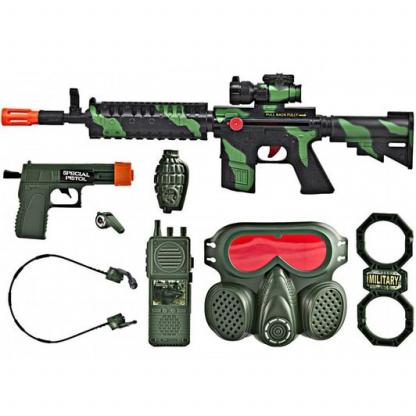Grenade: (153, 147, 191, 215)
Gun: (2, 68, 416, 198)
Pistol: (3, 159, 136, 242)
